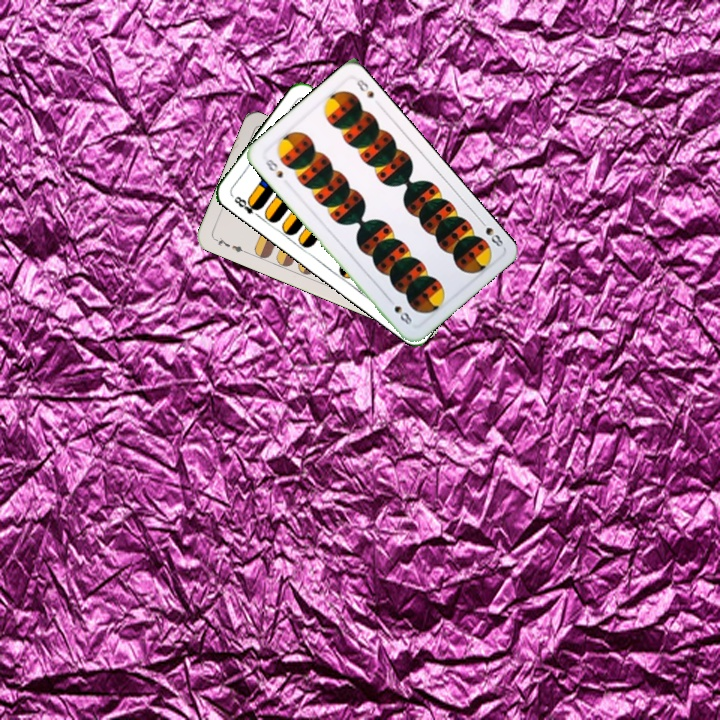E7: (210, 233, 249, 256)
E8: (230, 192, 264, 220)
S8: (475, 215, 507, 250), (261, 155, 286, 181)
